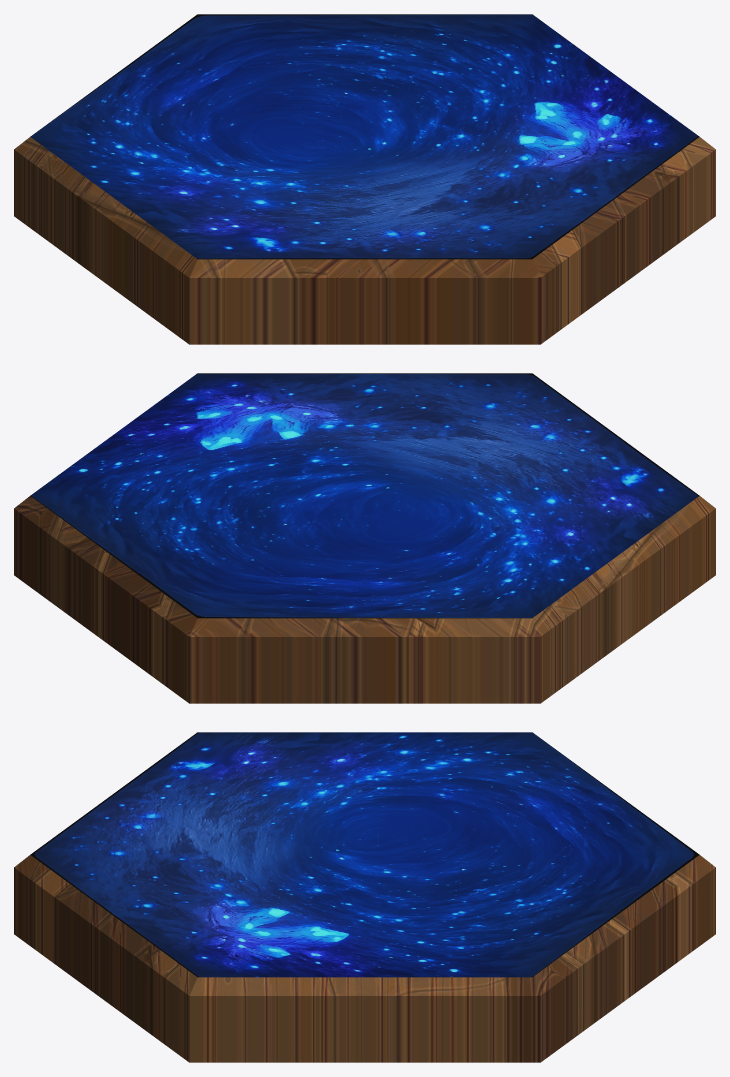
File: gemstone-caverns.glb
3 renders of one model, top to bottom at view 1: azimuth 30°, elevation 25°; view 2: azimuth 150°, elevation 25°; view 3: azimuth 270°, elevation 25°, orthographic.
Visible parts, largest first — view 1: Circle; view 2: Circle; view 3: Circle.
Boxes of the visible parts, bbox=[...] form: Circle: bbox=[14, 14, 715, 344]; Circle: bbox=[14, 373, 715, 703]; Circle: bbox=[14, 732, 715, 1062].
Bounding box in the file's own units: 1.73 × 0.25 × 2.
Materials: 2 (2 with a texture image).
